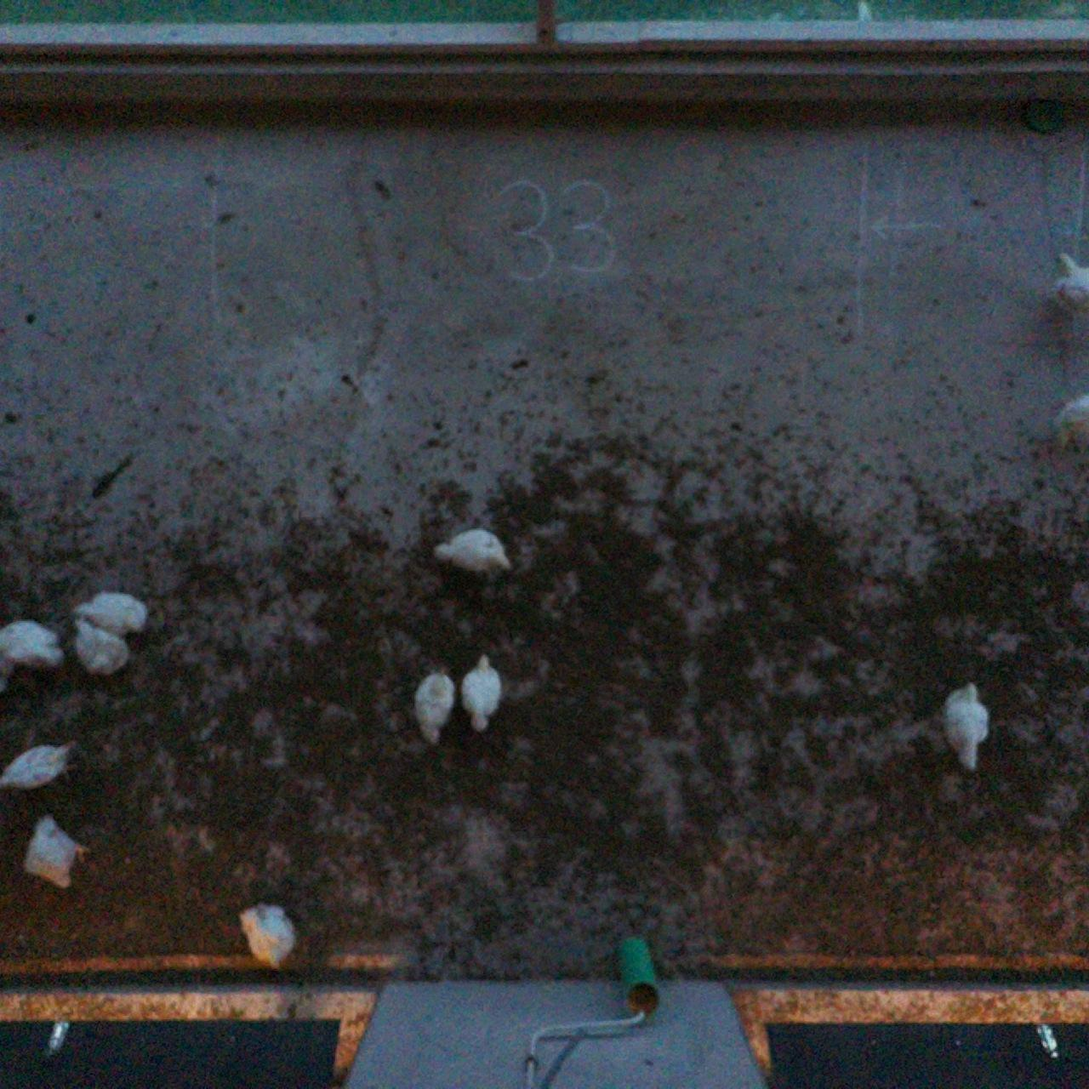chicken: (930, 676, 996, 776), (19, 810, 93, 896), (232, 894, 301, 976), (430, 524, 516, 584), (0, 737, 86, 797), (69, 585, 153, 643), (69, 613, 134, 685), (409, 663, 458, 751), (0, 615, 66, 680), (458, 651, 507, 736), (1042, 246, 1089, 316), (1046, 385, 1089, 444)
